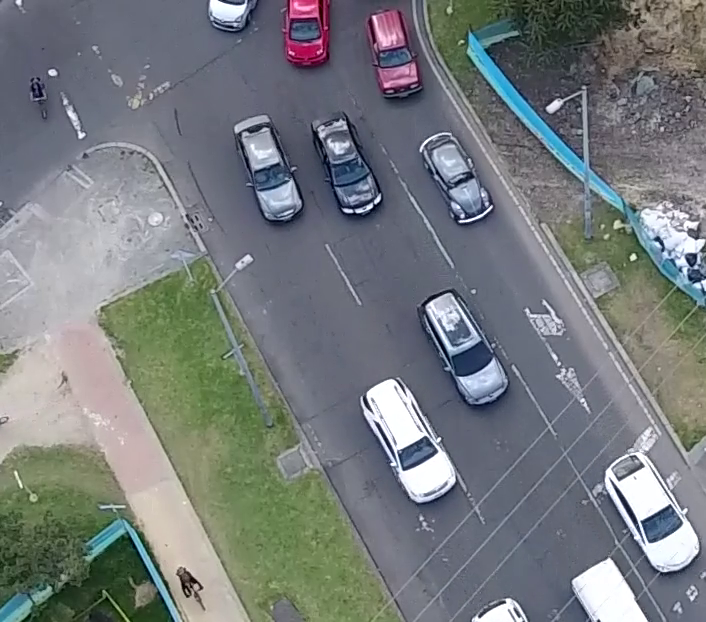car: (354, 372, 458, 506), (600, 447, 703, 576), (415, 285, 510, 412), (228, 110, 304, 226), (308, 111, 382, 226), (413, 129, 497, 229), (362, 4, 425, 100)
